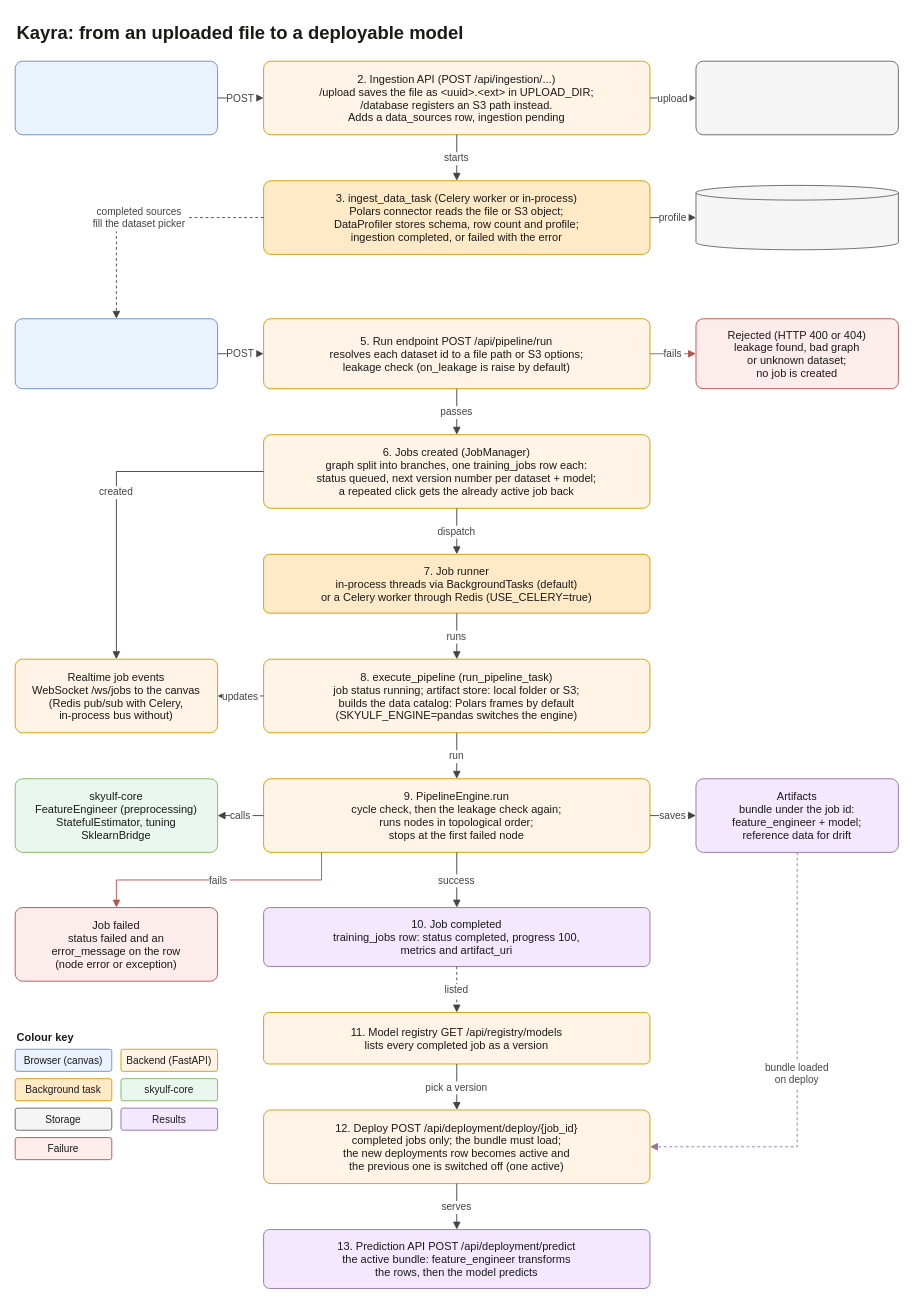
The diagram is 914 pixels wide and 1304 high, and some of its shapes have lost their labels. The shapes that lost their labels are listed below. From the top down, each one's centre as x and y in pixels, then its label:
At [116,97]: "1. Upload a data file, or add an S3 source".
At [796,97]: "Dataset files uploads: UPLOAD_DIR folder S3 sources: read in place".
At [796,217]: "SQL database SQLite (default) or PostgreSQL".
At [116,353]: "4. Build the pipeline on the canvas, then Run (nodes, params, inputs)".
